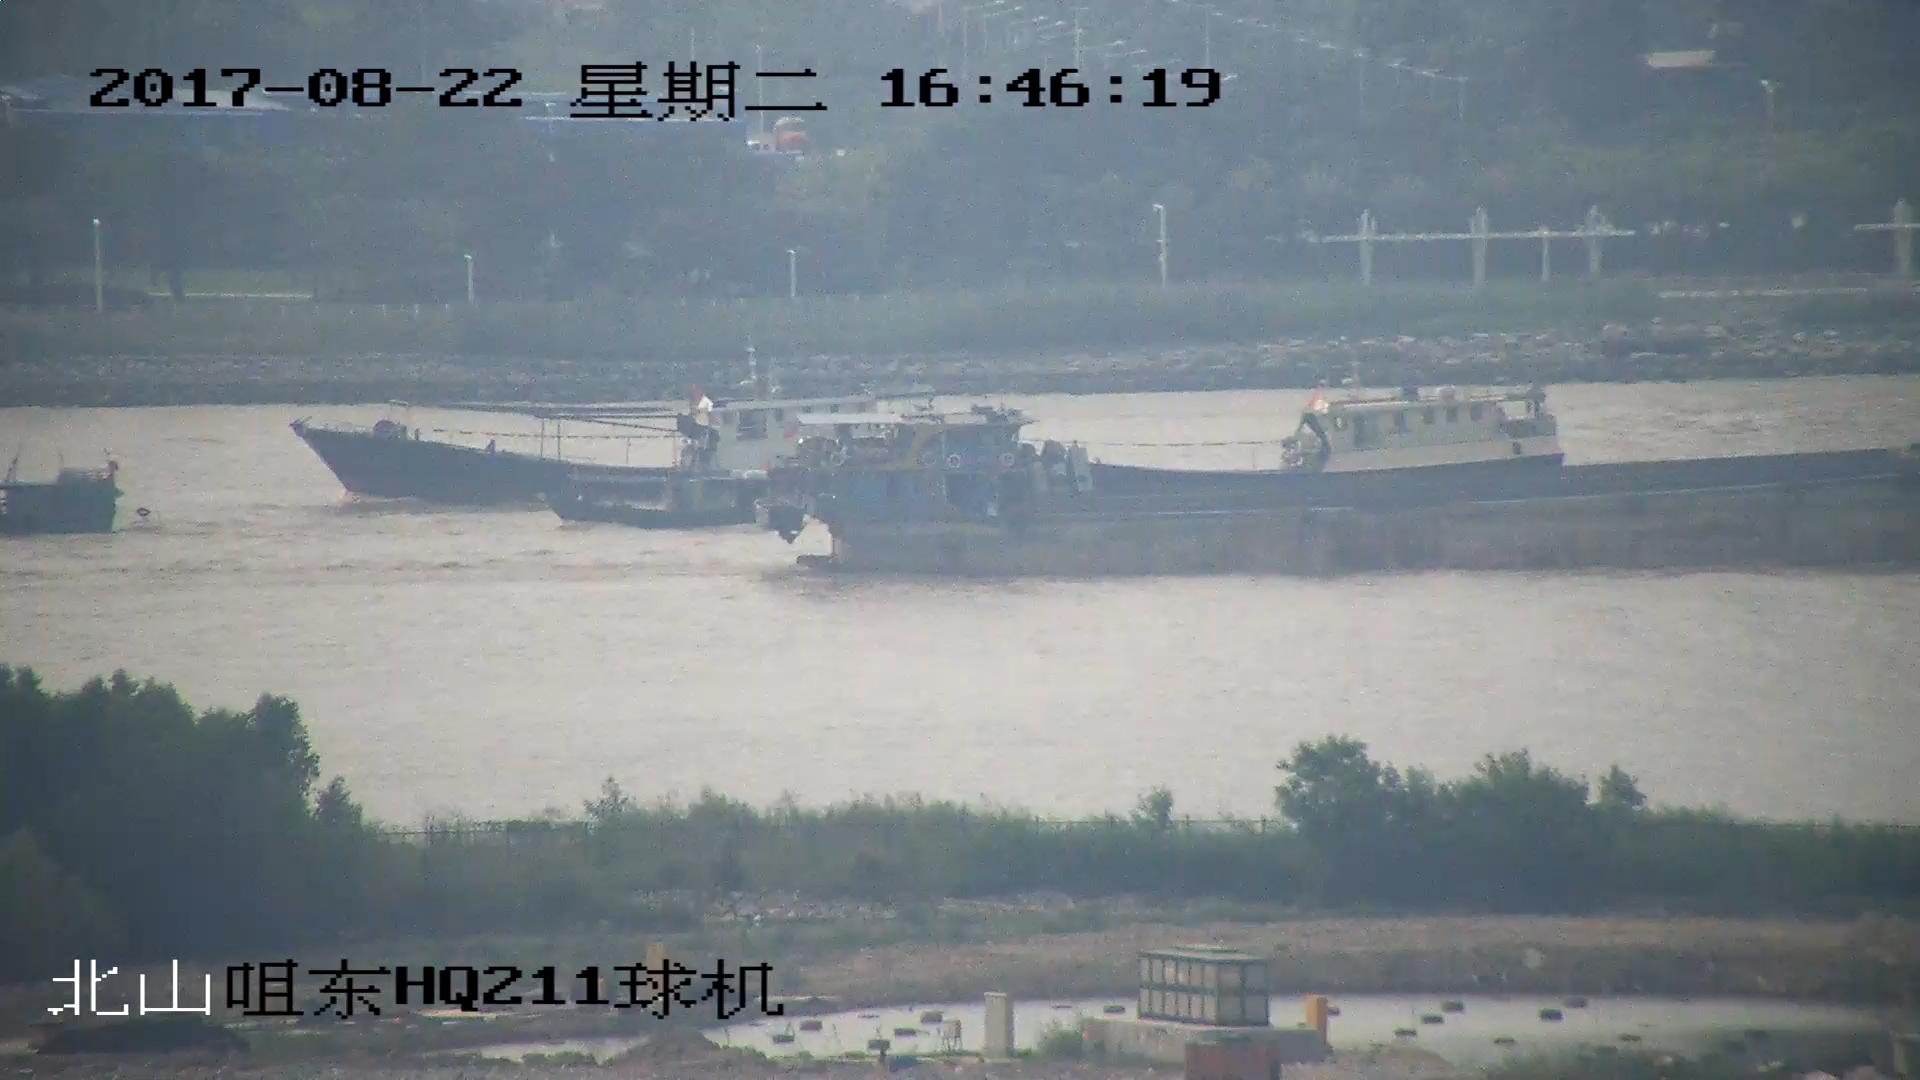bulk cargo carrier: (770, 414, 1920, 576)
fishing boat: (919, 376, 1574, 495), (297, 386, 921, 505), (540, 467, 767, 527), (1, 452, 135, 539)
